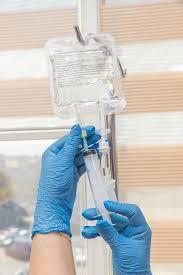Glove: (32, 124, 85, 236), (82, 201, 151, 274)
